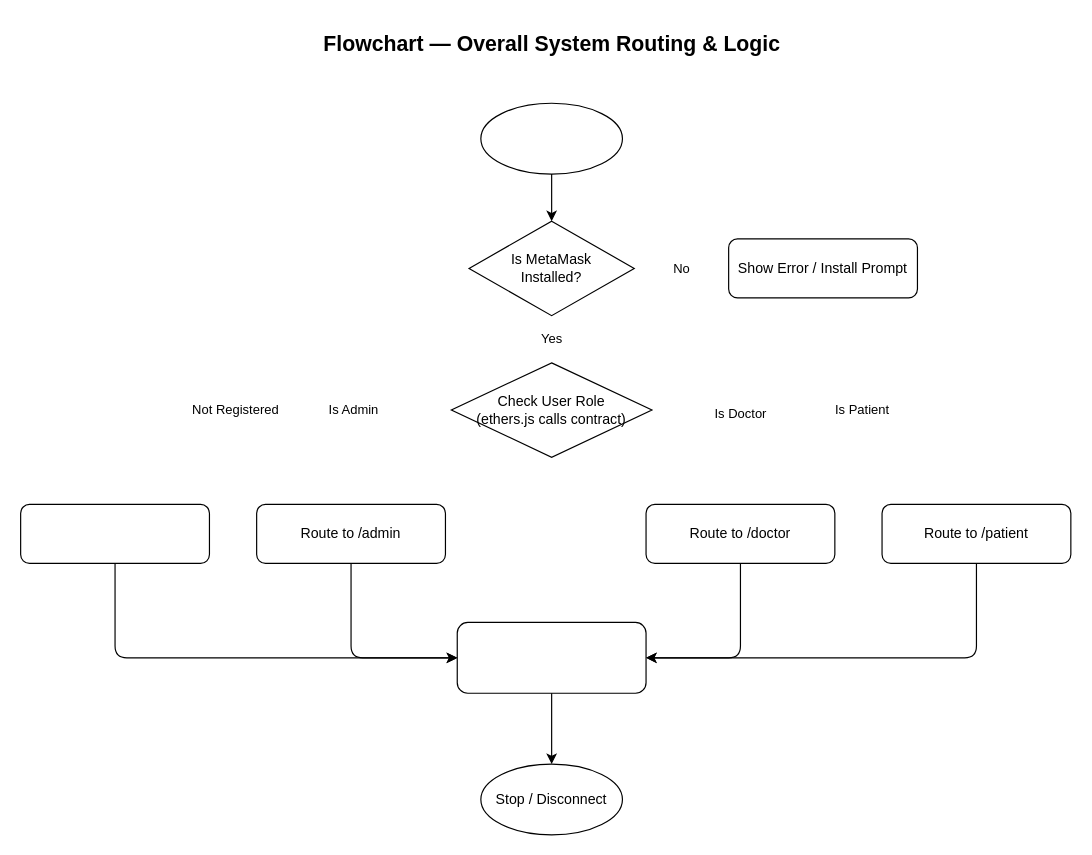
Image size: 1092x855. Some labels were removed from this diagram. Each missing label, with the box of its shape:
Perform Actions (Dashboard): (456, 621, 646, 693)
Route to /register: (19, 503, 209, 563)
Start / Open DApp: (480, 102, 622, 174)
